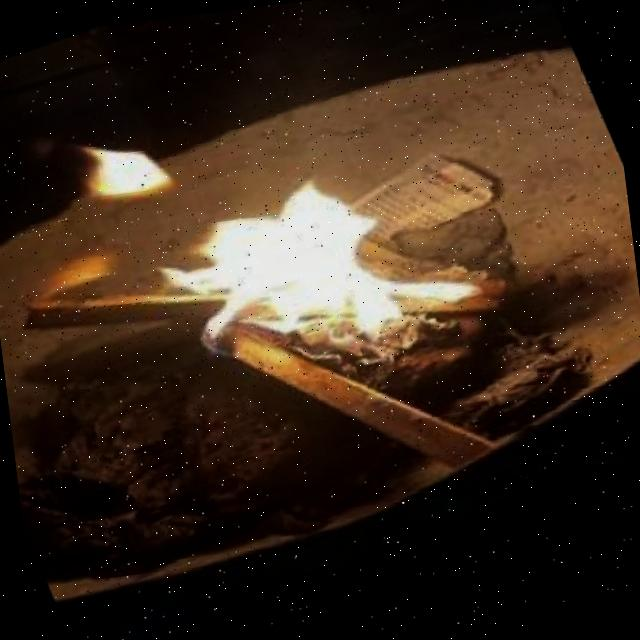fire: (161, 158, 486, 368), (71, 130, 188, 221)
